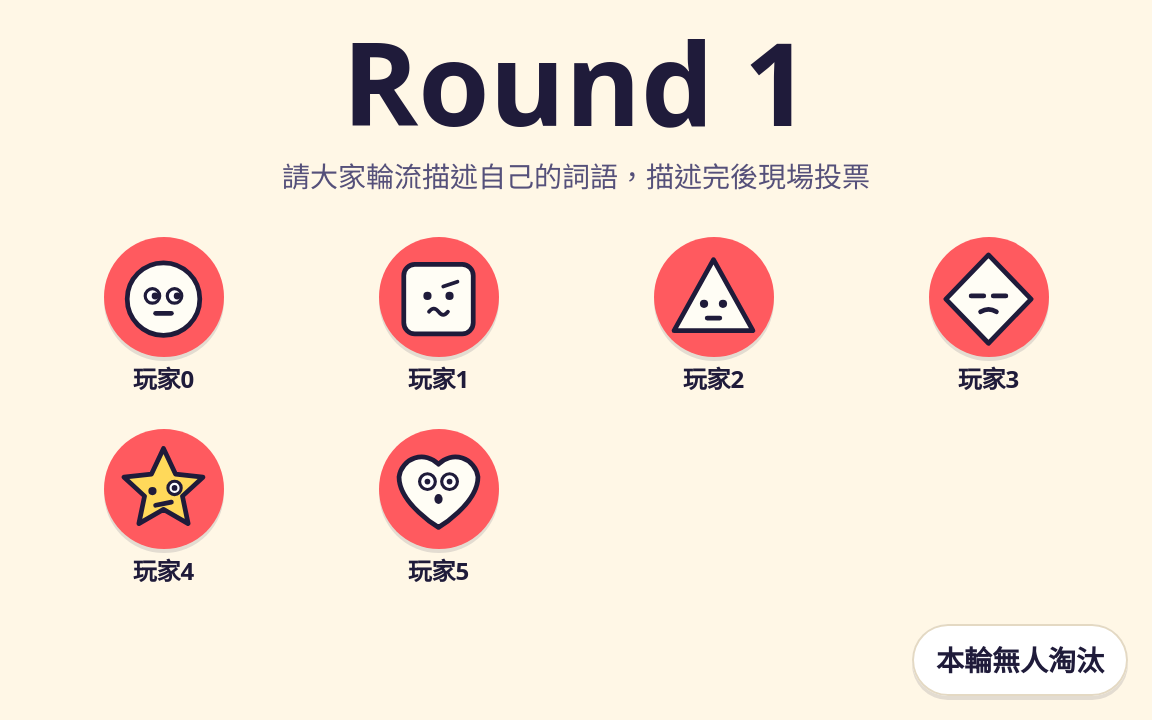
Test: skip round › asks before skipping and sends nothing until confirmed
Expected: the heading "Round 1" is shown, [342,24,810,139]
Click the button "本輪無人淘汰". click: click(1020, 660)
box: [912,624,1128,696]
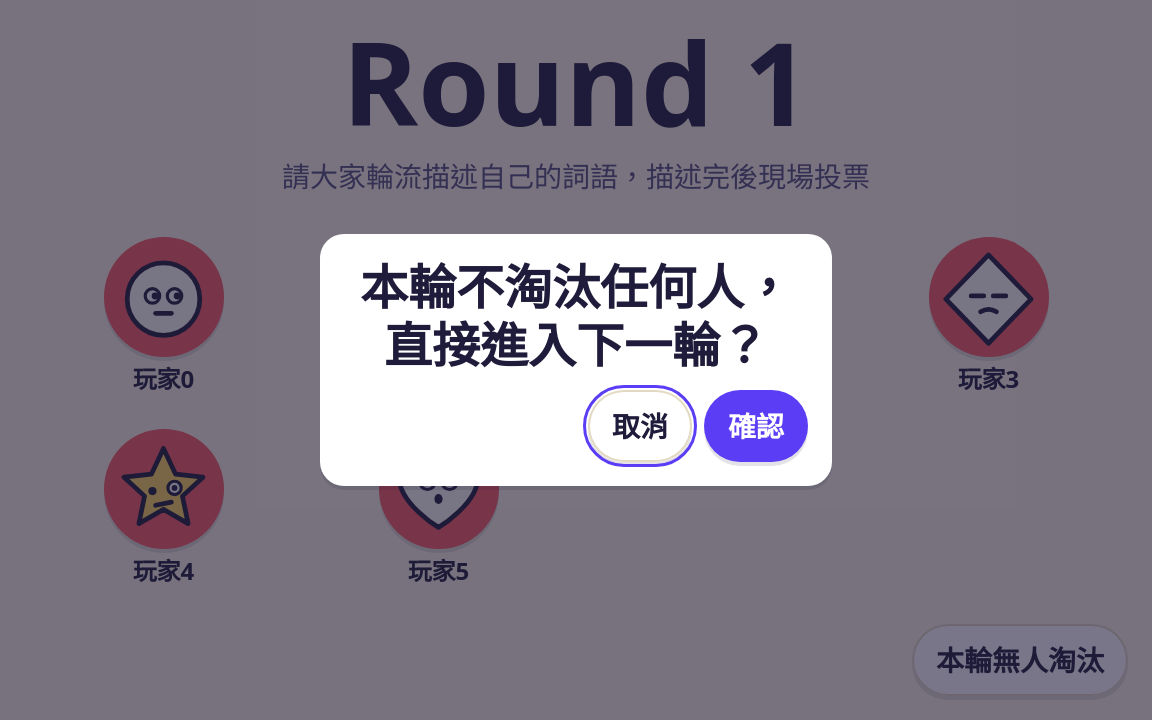
Now the heading "本輪不淘汰任何人，直接進入下一輪？" is shown, box [344,258,808,374]
Click the button "取消". click: click(640, 426)
box: [588,390,692,462]
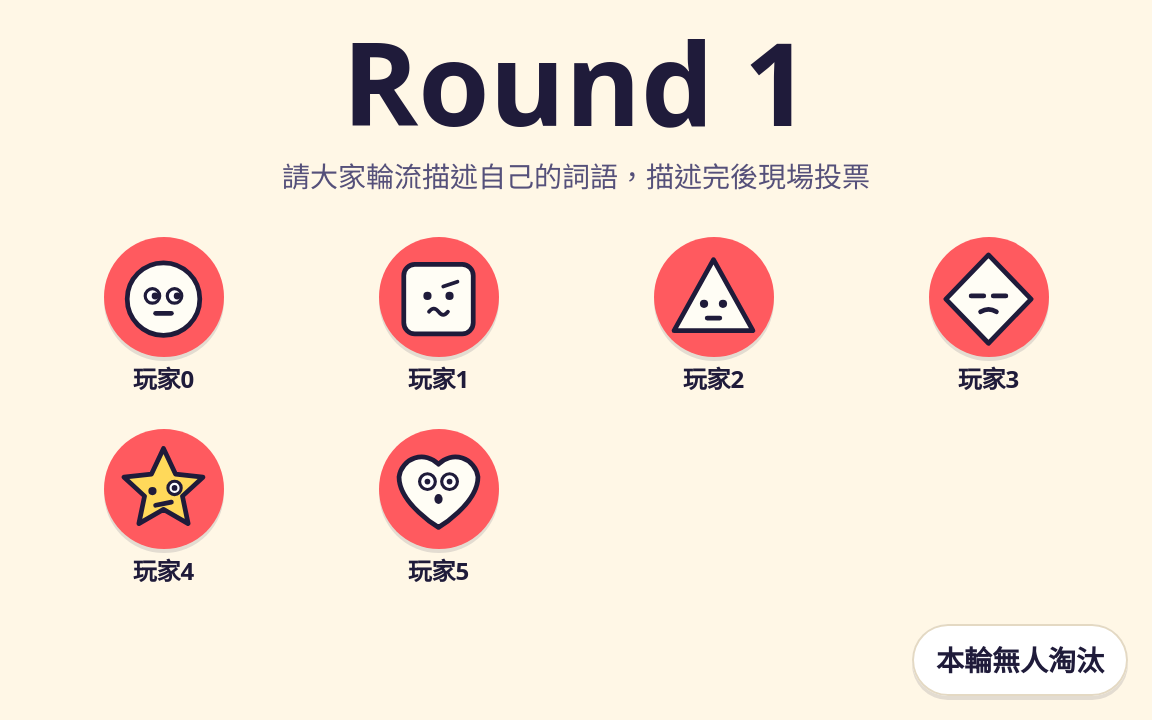
Now the dialog is gone
